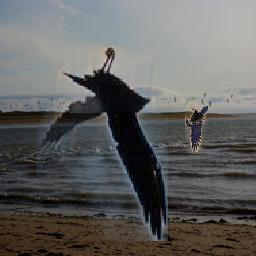Crow: (36, 45, 168, 241), (186, 106, 209, 153)
